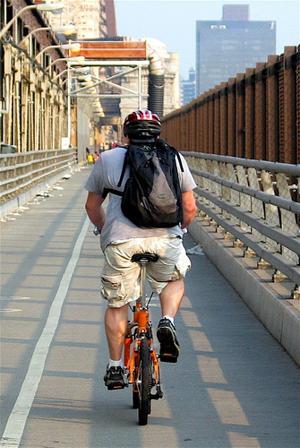person: (84, 108, 196, 395)
